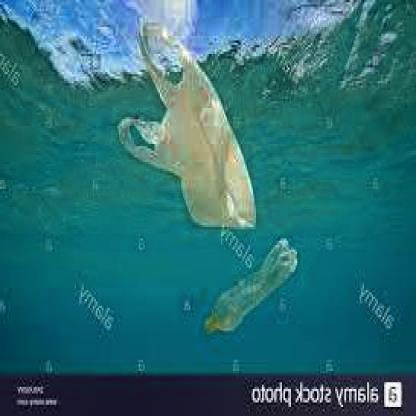pbag: (113, 16, 256, 238)
pbottle: (198, 236, 306, 342)
